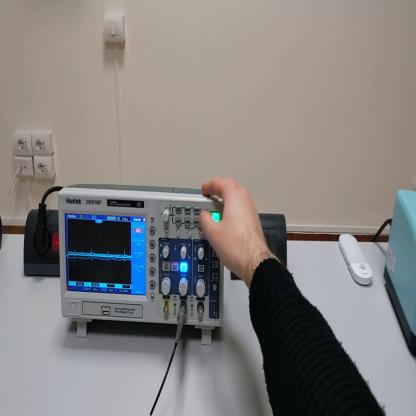hand: (199, 175, 268, 280)
oscilloscope: (59, 184, 224, 347)
socket: (24, 211, 61, 279), (1, 216, 5, 254)
welder station: (384, 187, 416, 358)
